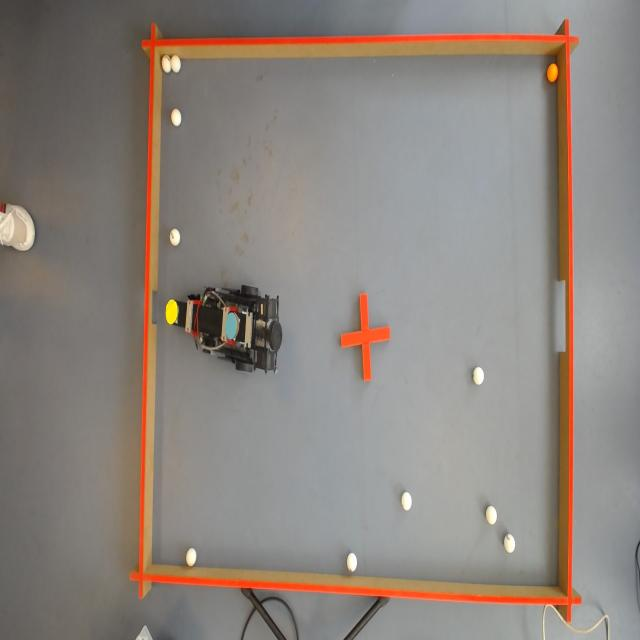orange: (546, 65, 560, 79)
robot: (168, 285, 284, 372)
robot-front: (164, 302, 179, 324)
robot-rear: (222, 306, 241, 342)
white: (345, 552, 360, 572), (485, 506, 497, 526), (505, 535, 518, 553), (186, 549, 198, 567), (169, 229, 181, 247), (402, 494, 413, 512), (171, 110, 182, 128), (161, 56, 172, 74), (170, 56, 182, 72), (474, 368, 484, 385)
